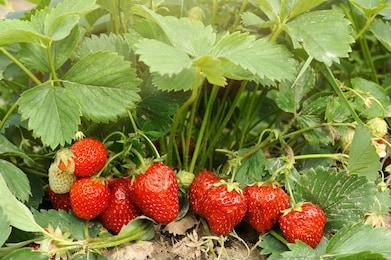Fresa: (128, 159, 183, 226), (241, 176, 293, 237), (202, 177, 250, 239), (277, 198, 328, 252), (58, 134, 114, 179), (68, 174, 110, 222)
